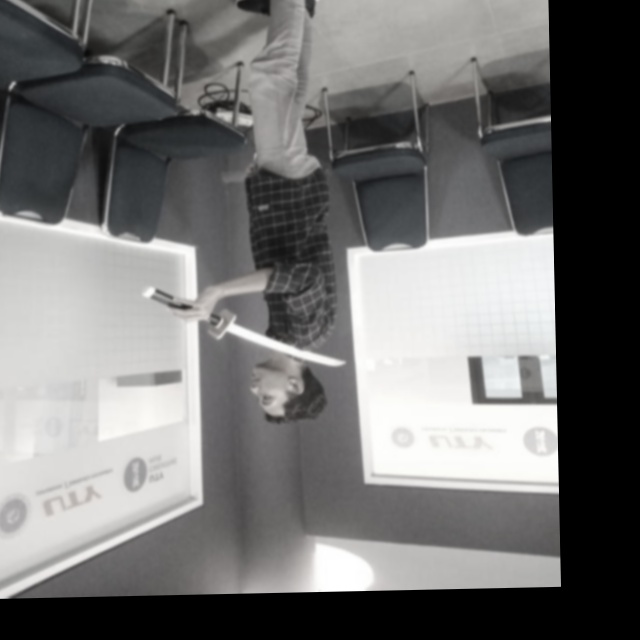Sharp-Object: (139, 275, 347, 382)
